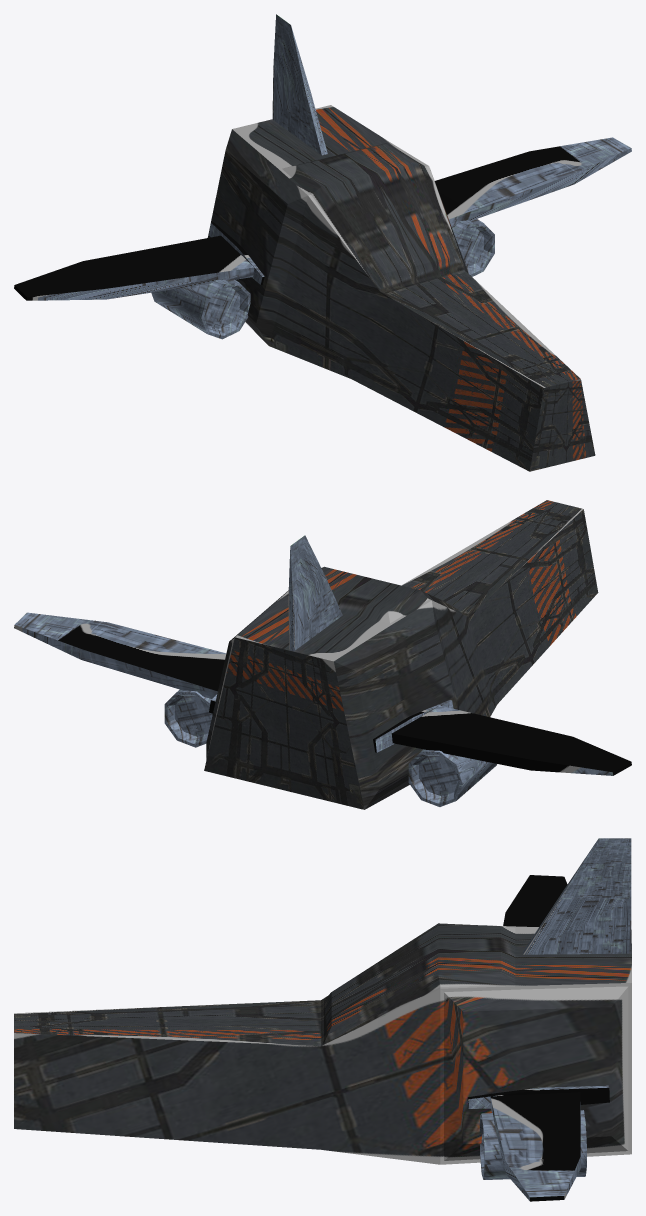
File: worker ship 3.fbx
The picture shows the model from 3 angles, top to bottom: view 1: azimuth 30°, elevation 25°; view 2: azimuth 150°, elevation 25°; view 3: azimuth 270°, elevation 25°; orthographic projection. The views are drawn at different scales.
Visible parts, largest first — view 1: Box001, Box003, Cylinder001, Box006; view 2: Box001, Box003, Cylinder001, Box006, Box004; view 3: Box001, Box003, Box006, Cylinder001, Box004.
Part boxes in pixels (x1,y1,x2,y2): Box001: (207,105,595,471); Box003: (14,137,631,300); Cylinder001: (151,219,494,339); Box006: (272,14,327,155); Box001: (204,500,598,809); Box003: (14,612,631,775); Cylinder001: (164,689,496,806); Box006: (288,535,342,651); Box004: (209,694,453,752); Box001: (14,923,631,1164); Box003: (490,875,580,1201); Box006: (523,838,631,954); Cylinder001: (479,1110,586,1179); Box004: (467,1085,609,1108).
Bounding box in the file's own units: 215 × 83.23 × 173.
4 materials, 4 textured.
